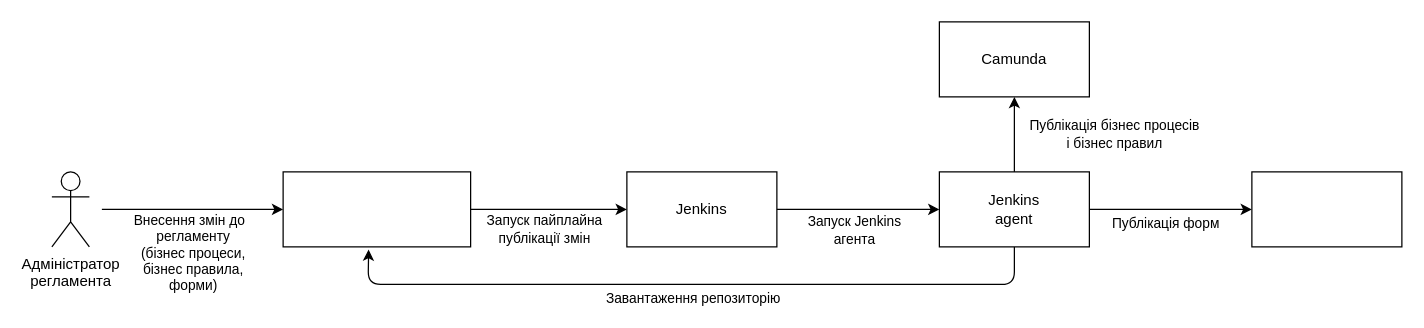
This 1424x328 diagram has some shape labels left out. Each missing label, with the centre of its shape:
Formio: [1326,209]
Gerrit репозиторій registry-regulations-catalogue: [376,209]
